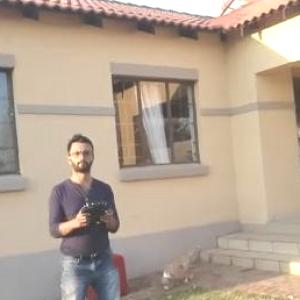follow: (43, 127, 137, 299)
null: (157, 241, 207, 294)
